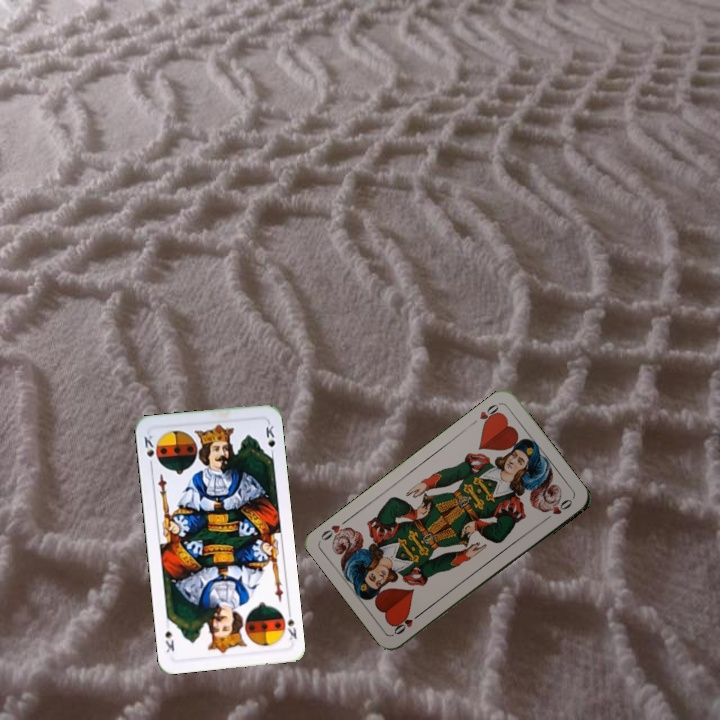HO: (467, 399, 504, 429), (390, 608, 424, 637)
SK: (140, 431, 161, 471), (283, 605, 300, 643)
